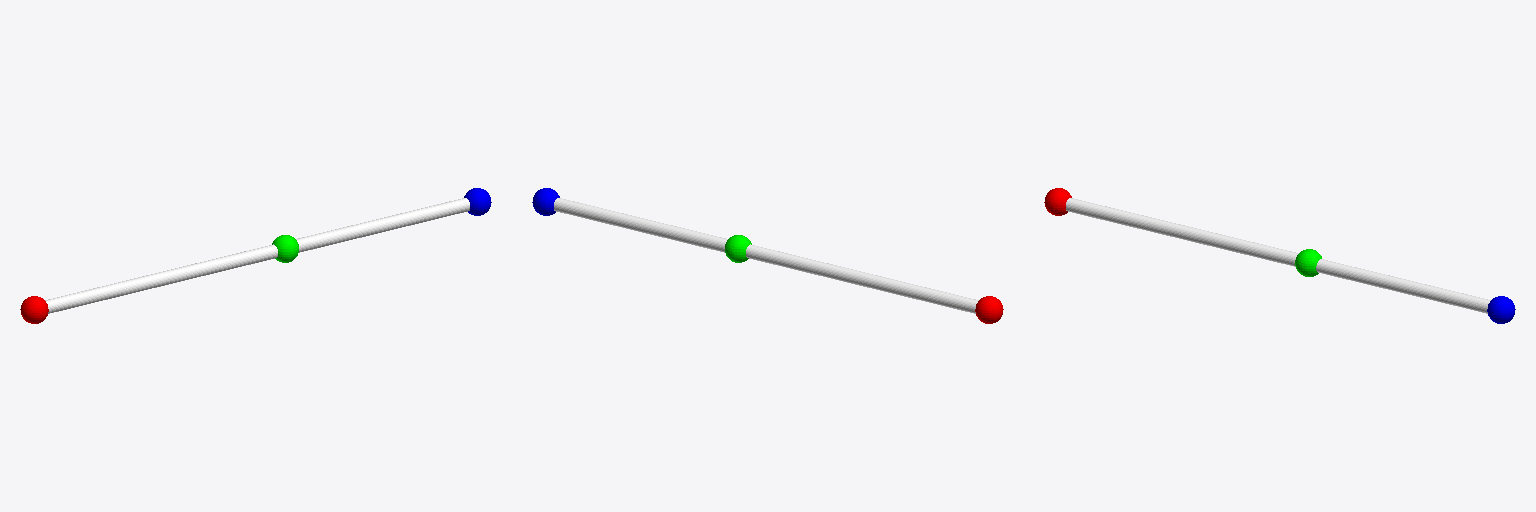
URDF robot description (mobile_manipulator):
<?xml version="1.0"?>
<robot name="mobile_manipulator" xmlns="http://www.ros.org">
<link name="world_base"/>
<link name="base">
  <visual>
    <geometry>
      <sphere radius="0.02"/>
    </geometry>
    <material name="base_color">
      <color rgba="1 0 0 1"/>
    </material>
  </visual>
  <collision>
    <geometry>
      <sphere radius="0.02"/>
    </geometry>
  </collision>
</link>
<link name="base_x"/>
<link name="base_y"/>
<joint name="base_x" type="prismatic">
  <origin xyz="0 0 0.6438" rpy="0 0 0"/>
  <axis xyz="1 0 0"/>
  <parent link="world_base"/>
  <child link="base_x"/>
  <limit effort="10.0" velocity="10.0" lower="-2.0" upper="2.0"/>
</joint>
<joint name="base_y" type="prismatic">
  <origin xyz="0 0 0" rpy="0 0 0"/>
  <axis xyz="0 1 0"/>
  <parent link="base_x"/>
  <child link="base_y"/>
  <limit effort="10.0" velocity="10.0" lower="-2.0" upper="2.0"/>
</joint>
<joint name="base_fixed" type="fixed">
  <origin xyz="0 0 0" rpy="0 0 0"/>
  <parent link="base_y"/>
  <child link="base"/>
</joint>

<link name="elbow">
  <visual>
    <geometry>
      <sphere radius="0.02"/>
    </geometry>
    <material name="elbow_color">
      <color rgba="0 1 0 1"/>
    </material>
  </visual>
  <collision>
    <geometry>
      <sphere radius="0.02"/>
    </geometry>
  </collision>
</link>

<link name="shoulder_pan"/>
<joint name="shoulder_pan" type="revolute">
  <origin xyz="0 0 0" rpy="0 0 0"/>
  <axis xyz="0 0 1"/>
  <parent link="base"/>
  <child link="shoulder_pan"/>
  <limit effort="10.0" velocity="10.0" lower="-6.28" upper="6.28"/>
</joint>
<joint name="shoulder_lift" type="revolute">
  <origin xyz="0 0 0" rpy="0 0 0"/>
  <axis xyz="0 -1 0"/>
  <parent link="shoulder_pan"/>
  <child link="upperarm"/>
  <limit effort="10.0" velocity="10.0" lower="-6.28" upper="6.28"/>
</joint>

<link name="upperarm">
  <visual>
    <origin xyz="0.205 0 0" rpy="0 1.57 0"/>
    <geometry>
      <cylinder radius="0.01" length="0.41"/>
    </geometry>
    <material name="upperarm_color">
      <color rgba="1 1 1 1"/>
    </material>
  </visual>
  <collision>
    <origin xyz="0.205 0 0" rpy="0 1.57 0"/>
    <geometry>
      <cylinder radius="0.01" length="0.41"/>
    </geometry>
  </collision>
</link>

<joint name="elbow_fixed" type="fixed">
  <origin xyz="0.41 0 0" rpy="0 0 0"/>
  <axis xyz="0 0 0"/>
  <parent link="upperarm"/>
  <child link="elbow"/>
</joint>

<link name="forearm">
  <visual>
    <origin xyz="0.157 0 0" rpy="0 1.57 0"/>
    <geometry>
      <cylinder radius="0.01" length="0.3143"/>
    </geometry>
    <material name="forearm_color">
      <color rgba="1 1 1 1"/>
    </material>
  </visual>
  <collision>
    <origin xyz="0.157 0 0" rpy="0 1.57 0"/>
    <geometry>
      <cylinder radius="0.01" length="0.3143"/>
    </geometry>
  </collision>
</link>

<link name="eef">
  <visual>
    <geometry>
      <sphere radius="0.02"/>
    </geometry>
    <material name="eef_color">
      <color rgba="0 0 1 1"/>
    </material>
  </visual>
  <collision>
    <geometry>
      <sphere radius="0.02"/>
    </geometry>
  </collision>
</link>

<joint name="elbow_flex" type="revolute">
  <origin xyz="0 0 0" rpy="0 0 0"/>
  <axis xyz="0 1 0"/>
  <parent link="elbow"/>
  <child link="forearm"/>
  <limit effort="10.0" velocity="10.0" lower="-6.28" upper="6.28"/>
</joint>
<joint name="eef_fixed" type="fixed">
  <origin xyz="0.3143 0 0" rpy="0 0 0"/>
  <parent link="forearm"/>
  <child link="eef"/>
</joint>

</robot>

--- Facts derived from the render (not from the file) ---
Views: 3 orthographic renders of the robot side by side, from view 1: azimuth 30°, elevation 25°; view 2: azimuth 150°, elevation 25°; view 3: azimuth 330°, elevation 25°.
Robot: mobile_manipulator — 9 links, 8 joints (3 revolute, 2 prismatic, 3 fixed); root link world_base; default pose: every joint at zero.
Visible links, largest first — view 1: upperarm, forearm, base, eef, elbow; view 2: upperarm, forearm, base, eef, elbow; view 3: upperarm, forearm, eef, base, elbow.
Link boxes in pixels (x1,y1,x2,y2): upperarm: (45,244,277,313); forearm: (296,198,469,252); base: (20,296,48,323); eef: (464,188,491,215); elbow: (272,235,298,262); upperarm: (746,244,978,313); forearm: (554,198,727,252); base: (975,296,1003,323); eef: (532,188,559,215); elbow: (725,235,751,262); upperarm: (1066,198,1298,266); forearm: (1316,259,1490,313); eef: (1487,296,1515,323); base: (1044,188,1071,215); elbow: (1295,249,1321,276).
Size in the robot's own frame: 0.7643 by 0.04 by 0.04 metres.
Geometry: primitives only (box / cylinder / sphere), no mesh files.
